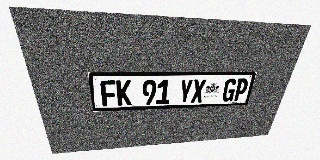1: (156, 79, 171, 104)
9: (142, 80, 157, 105)
F: (100, 80, 117, 106)
G: (221, 79, 238, 102)
K: (116, 80, 132, 106)
P: (232, 78, 249, 101)
X: (191, 79, 206, 103)
Y: (178, 79, 193, 103)
